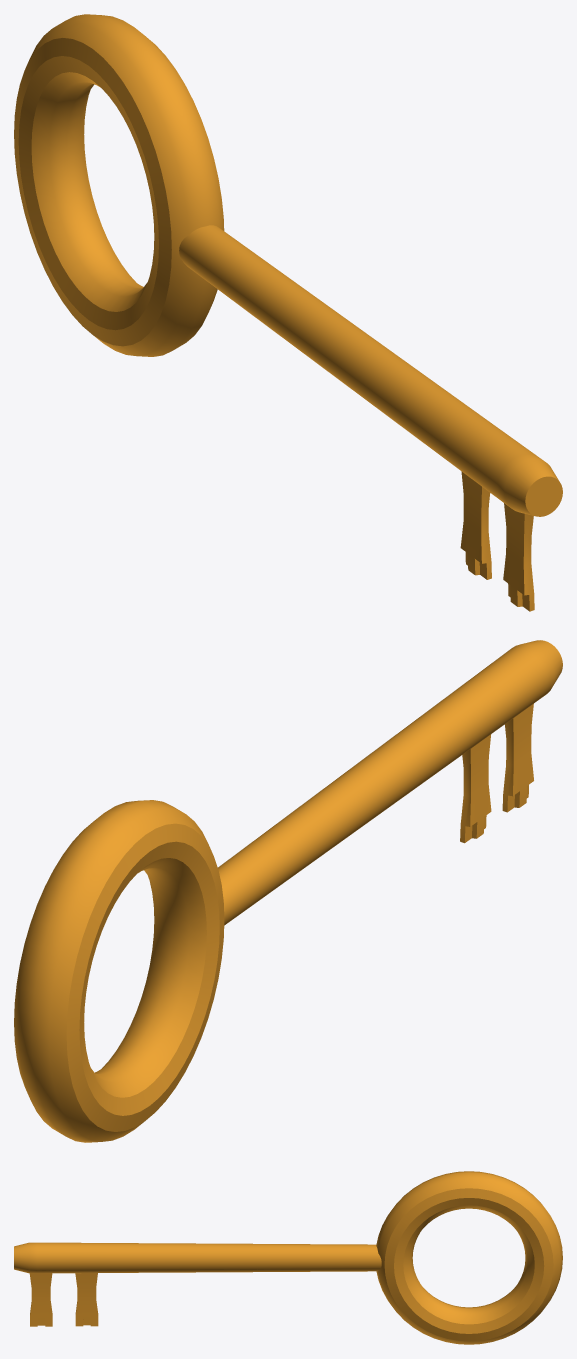
The model's file is SM_Key.fbx.
The picture shows the model from 3 angles, top to bottom: view 1: azimuth 30°, elevation 25°; view 2: azimuth 150°, elevation 25°; view 3: azimuth 270°, elevation 25°; orthographic projection. The views are drawn at different scales.
Visible parts, largest first — view 1: Torus; view 2: Torus; view 3: Torus.
Part boxes in pixels (x1,y1,x2,y2): Torus: (14,14,562,611); Torus: (14,640,562,1142); Torus: (14,1171,562,1344).
Size of the model in its own units: 13.41 by 67.03 by 196.
